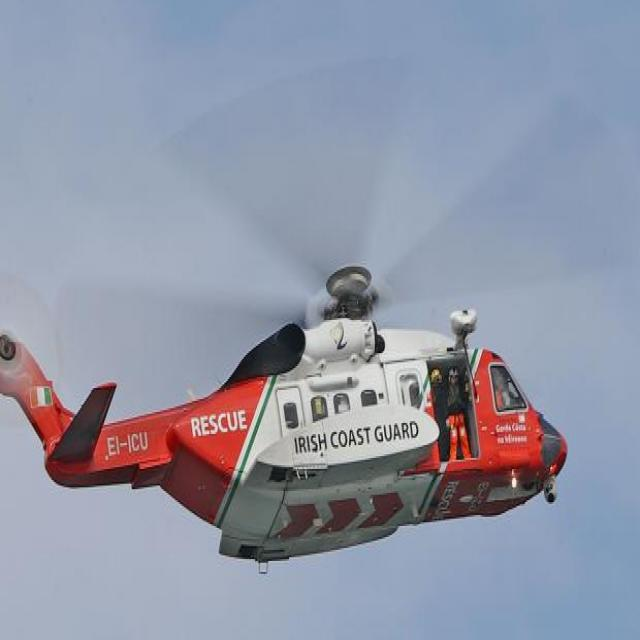helicopter: (1, 251, 575, 582)
